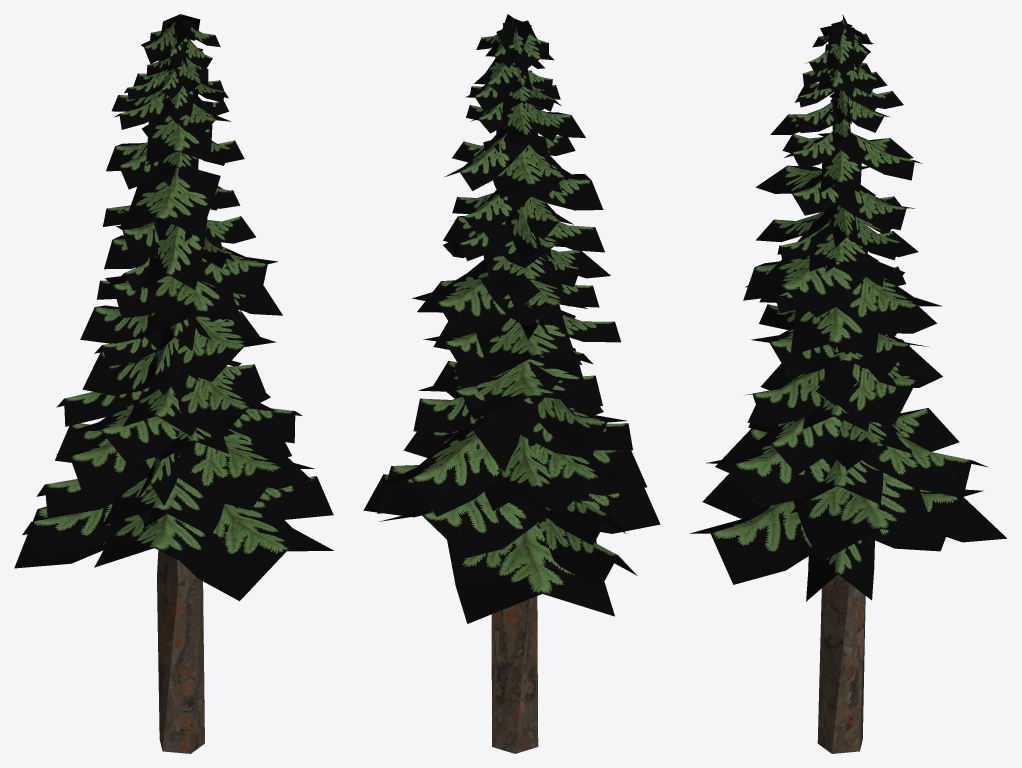
The model's file is pineTree3.fbx.
3 views of the same model, side by side, from view 1: azimuth 30°, elevation 25°; view 2: azimuth 150°, elevation 25°; view 3: azimuth 270°, elevation 25° (orthographic).
Parts seen in each view (by area): view 1: tree; view 2: tree; view 3: tree.
Part boxes in pixels (left/top/right/bottom): tree: left=14, top=14, right=333, bottom=753; tree: left=363, top=14, right=660, bottom=753; tree: left=689, top=14, right=1006, bottom=753.
Bounding box in the file's own units: 879 × 2250 × 895.
